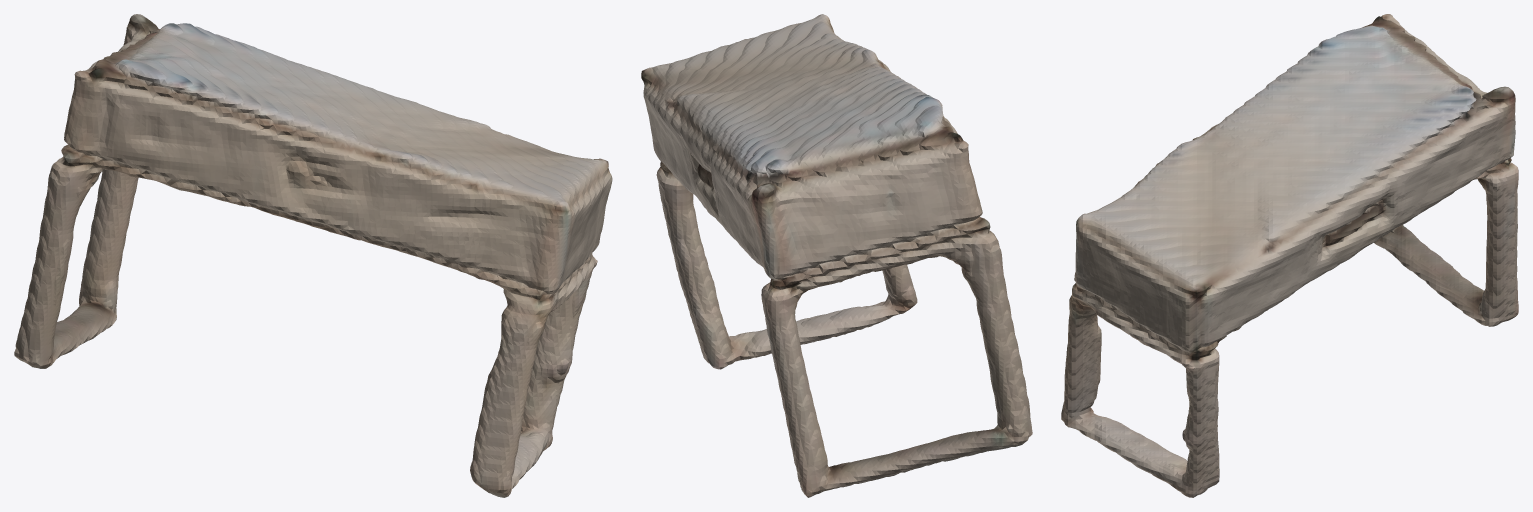
3 renders of one model, left to right at view 1: azimuth 30°, elevation 25°; view 2: azimuth 150°, elevation 25°; view 3: azimuth 270°, elevation 25°, orthographic. The views are drawn at different scales.
Parts seen in each view (by area): view 1: world; view 2: world; view 3: world.
Part boxes in pixels (x1=…): world: x1=14, y1=14, x2=612, y2=497; world: x1=641, y1=14, x2=1032, y2=497; world: x1=1061, y1=14, x2=1518, y2=497.
Size of the model in its own units: 0.8794 by 0.6667 by 0.8226.
